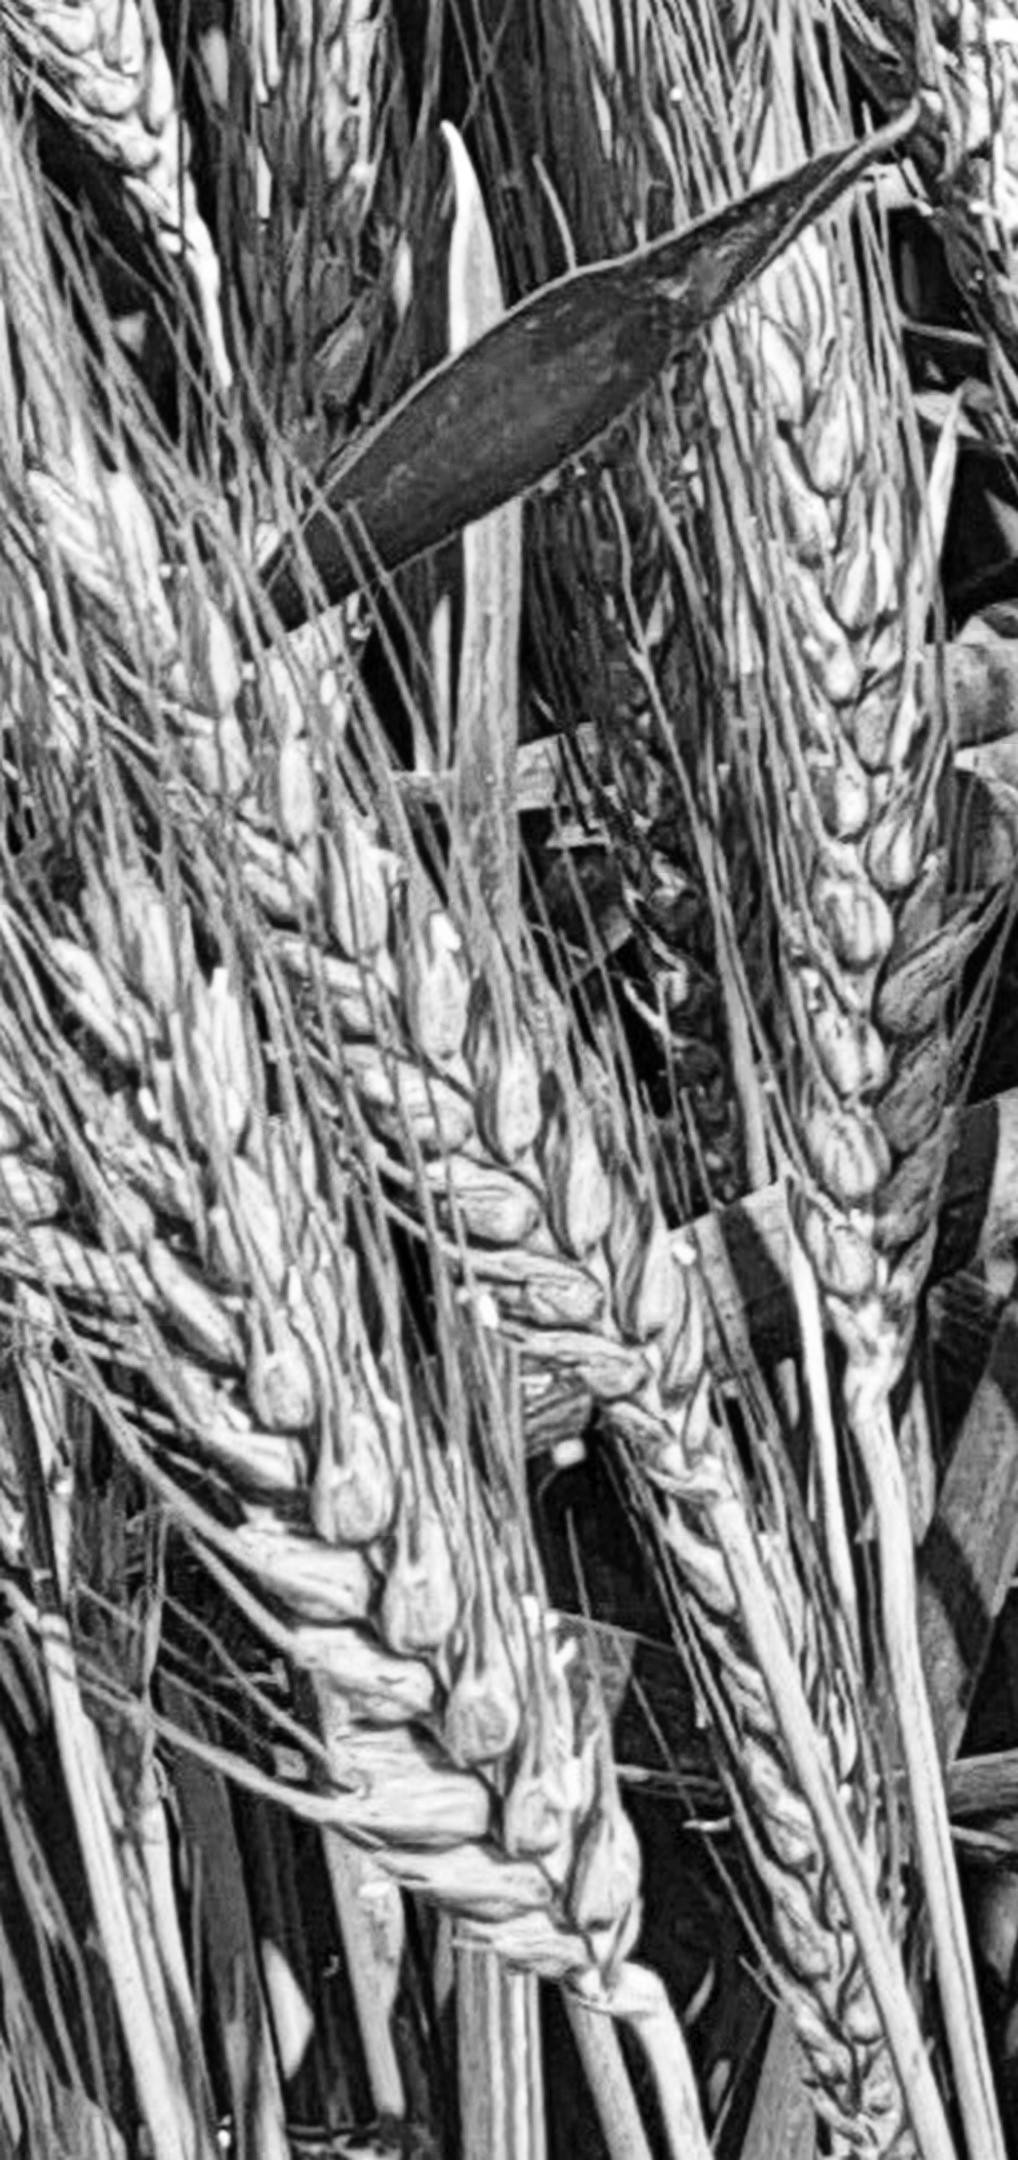Healthy Wheat: (36, 877, 664, 1996)
